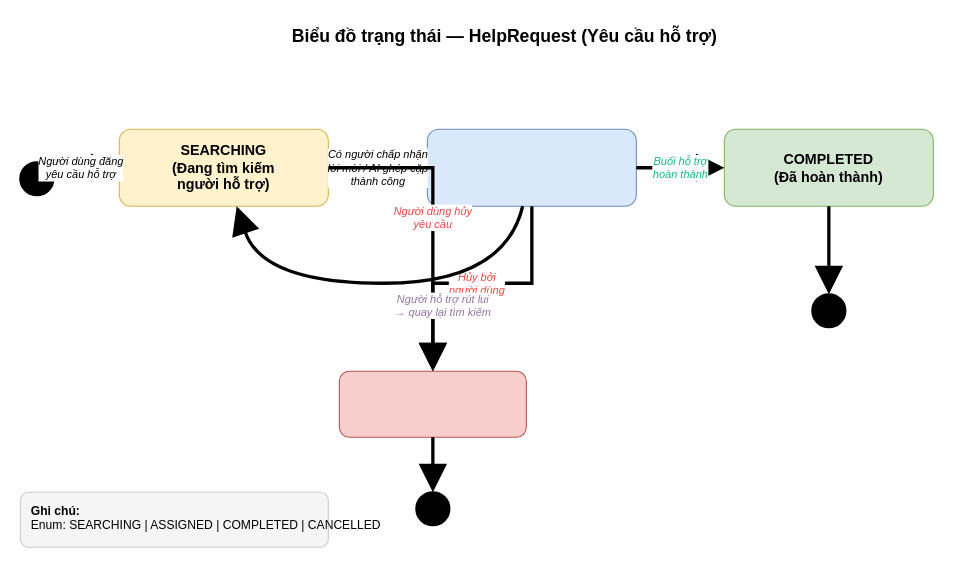
This 953x567 diagram has some shape labels left out. The shapes that lost their labels are listed below. From the top down, each one's centre as x and y in pixels, then its label:
At [531,167]: "ASSIGNED (Đã có người nhận hỗ trợ)".
At [432,403]: "CANCELLED (Đã hủy)".
